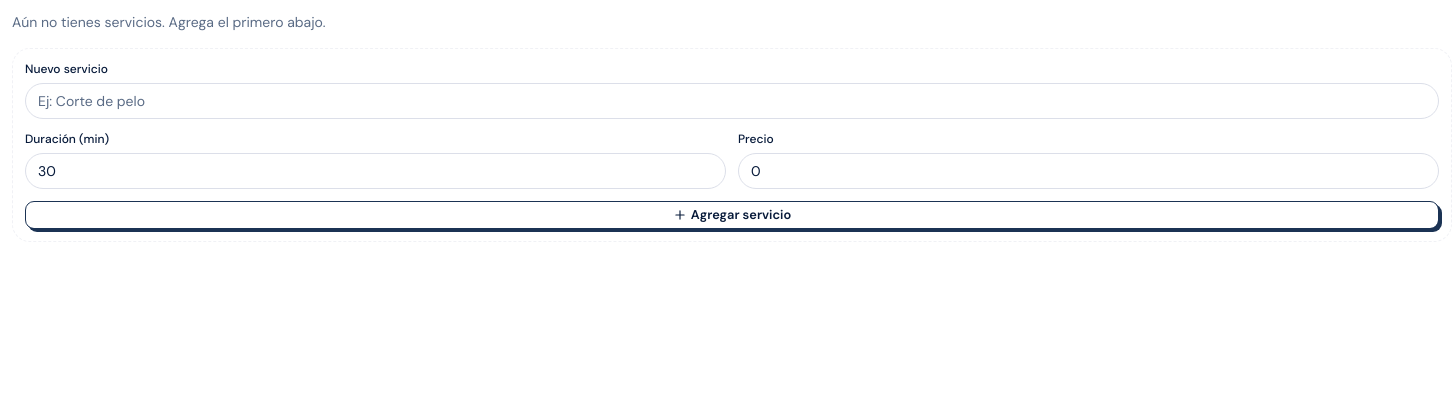
Scenario: Step3Services (adapted) › adds a service via the form and renders it
Type "Baño" into the field labelled "Nuevo servicio" at [732, 101], box x1=25 y1=83 x2=1439 y2=119
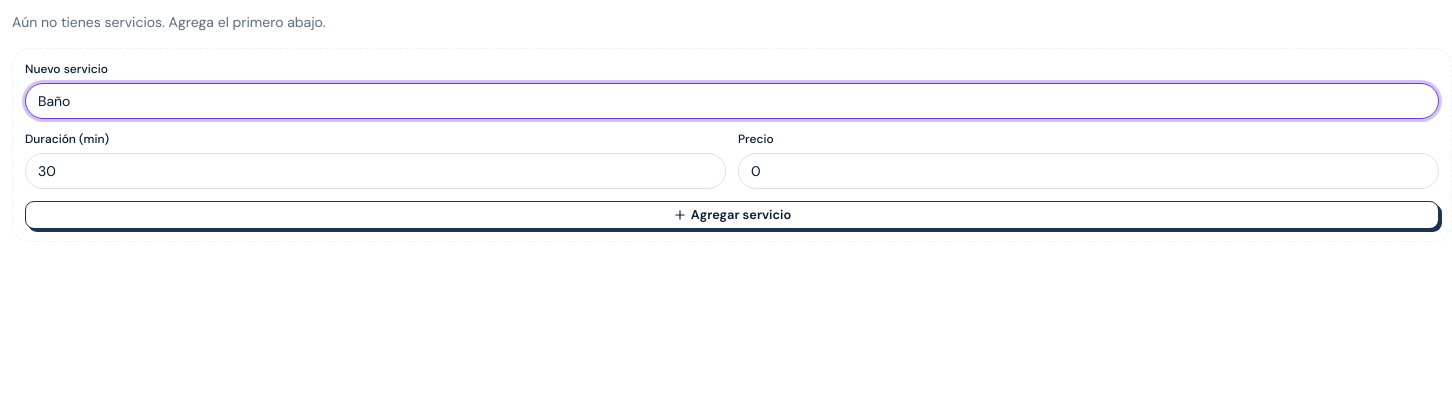
Replace the text in the number field labelled "Duración (min)" with "45" at [376, 171], box x1=25 y1=153 x2=726 y2=189
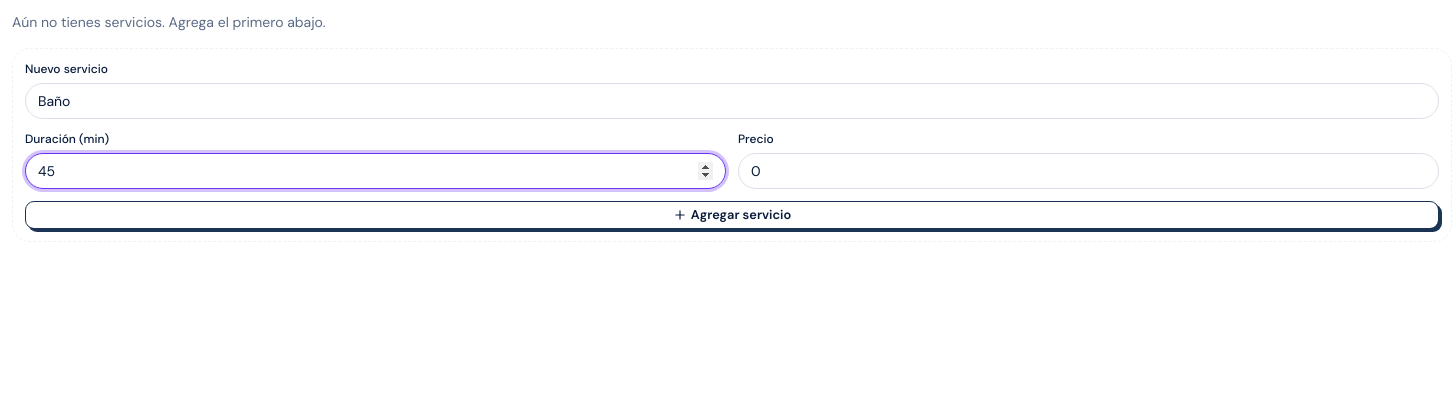
Replace the text in the number field labelled "Precio" with "12000" at [1088, 171], box x1=738 y1=153 x2=1439 y2=189
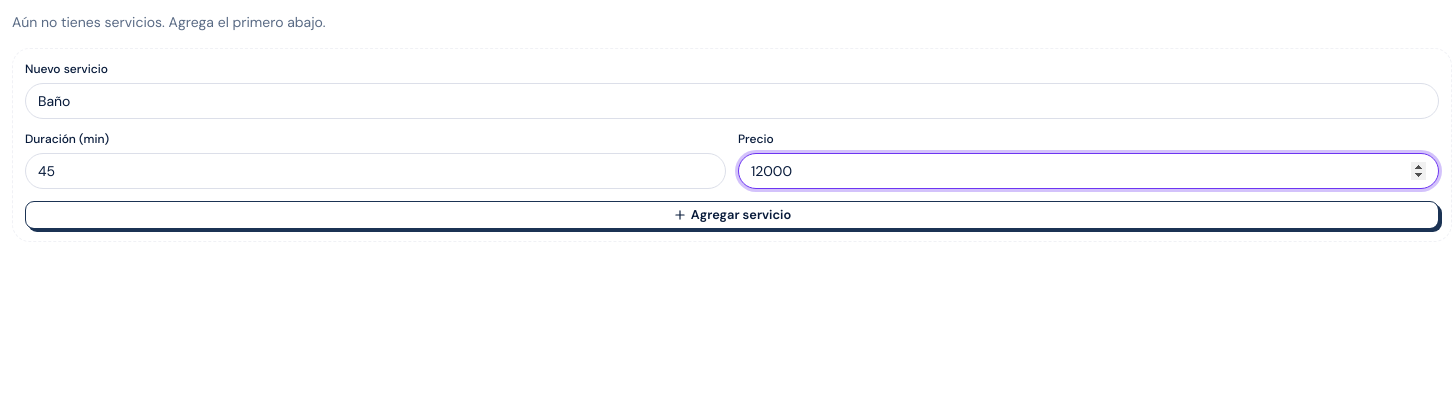
Click the button "Agregar servicio" at [732, 215], box x1=25 y1=201 x2=1439 y2=229
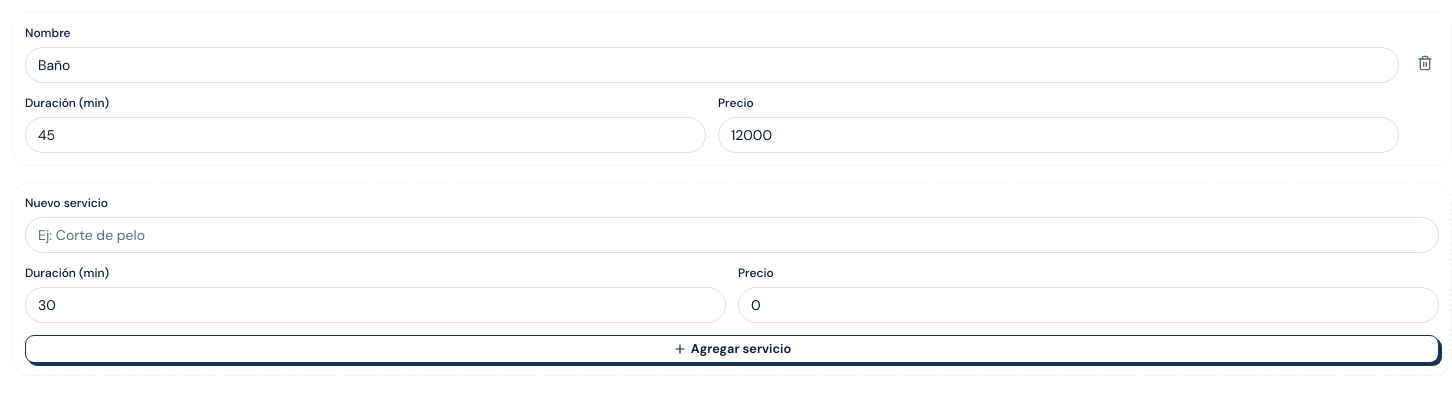
Result: the field showing "Baño" is shown at x1=25 y1=47 x2=1399 y2=83
